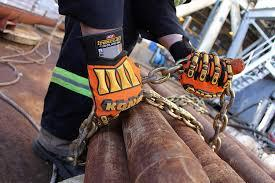gloves: (81, 27, 144, 119), (169, 36, 227, 98)
